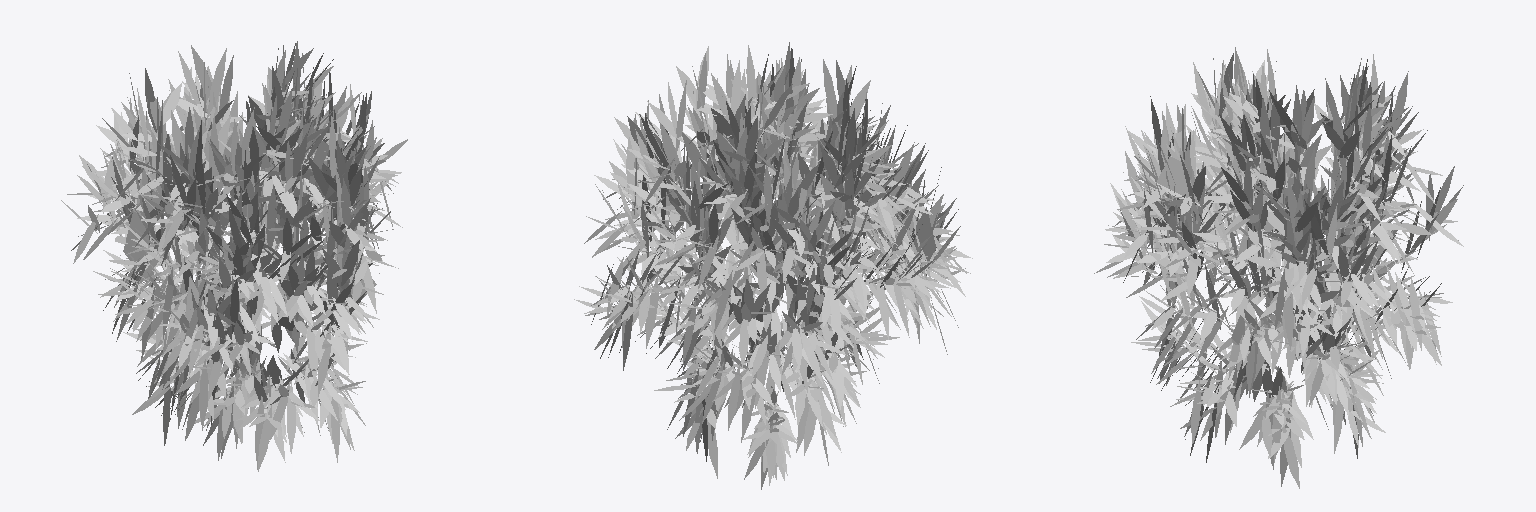
Rendered from bush.obj.
3 views of the same model, side by side, from view 1: azimuth 30°, elevation 25°; view 2: azimuth 150°, elevation 25°; view 3: azimuth 270°, elevation 25° (orthographic).
Visible parts, largest first — view 1: leaves.006; view 2: leaves.006; view 3: leaves.006.
Boxes of the visible parts, x1,y1,x2,y2 form: leaves.006: [61, 41, 407, 471]; leaves.006: [574, 42, 972, 489]; leaves.006: [1094, 47, 1463, 488].
Size of the model in its own units: 1.54 by 1.88 by 1.61.